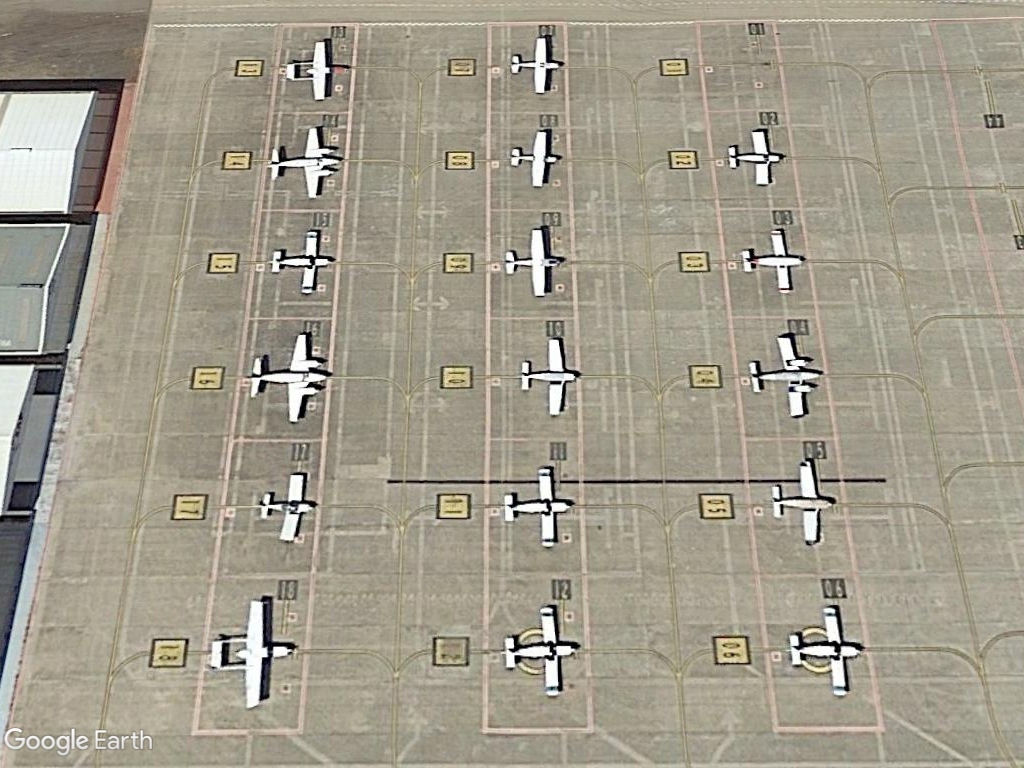trainer: (500, 596, 582, 705), (781, 599, 865, 701), (502, 460, 574, 553), (768, 453, 837, 550), (514, 336, 585, 421), (500, 224, 567, 306), (253, 470, 325, 544), (269, 226, 336, 300), (740, 225, 806, 300), (723, 121, 787, 193), (503, 123, 566, 196), (505, 30, 567, 98)
